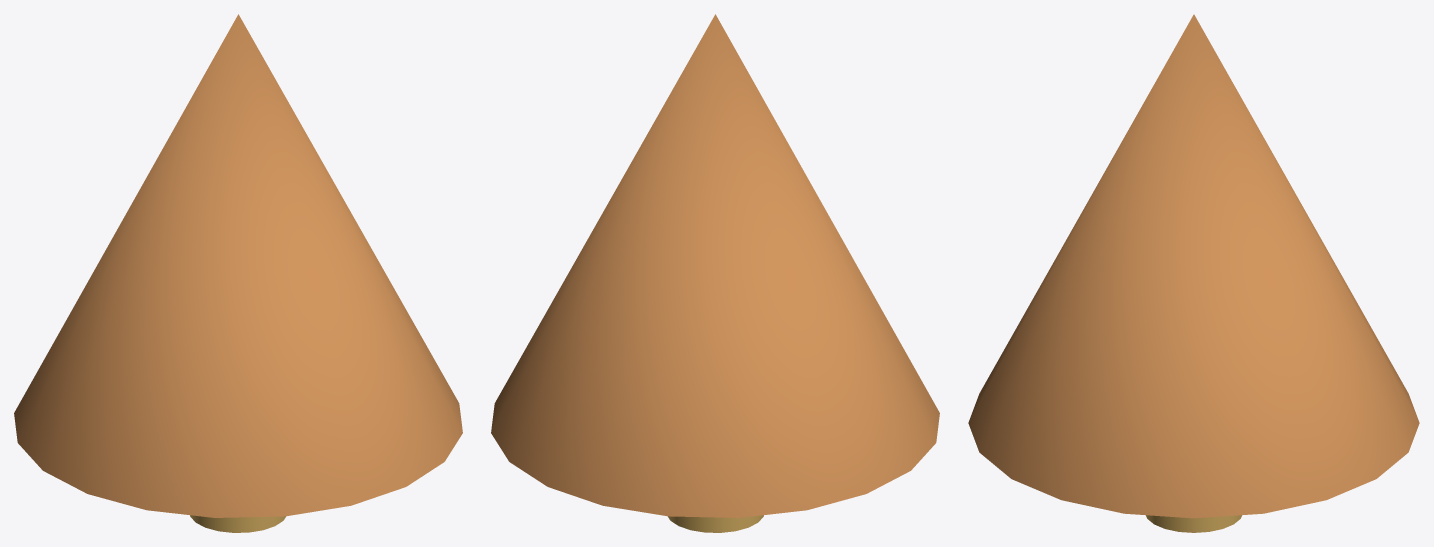
File: cone_laranja.fbx
The picture shows the model from 3 angles, left to right: view 1: azimuth 30°, elevation 25°; view 2: azimuth 150°, elevation 25°; view 3: azimuth 270°, elevation 25°; orthographic projection.
Visible parts, largest first — view 1: pCone5, arvore20; view 2: pCone5, arvore20; view 3: pCone5, arvore20.
Part boxes in pixels (x1,y1,x2,y2): pCone5: (14,14,462,517); arvore20: (190,515,285,532); pCone5: (491,14,939,517); arvore20: (668,515,763,532); pCone5: (968,14,1419,518); arvore20: (1146,515,1241,532).
Size of the model in its own units: 2.39 by 2.91 by 2.39.
